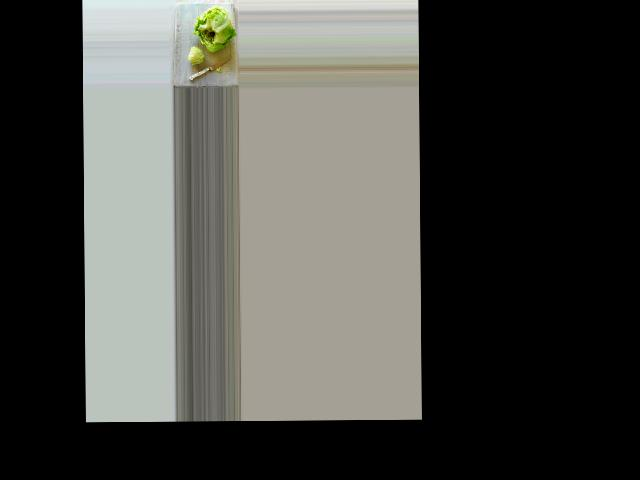lettuce: (194, 3, 234, 47)
